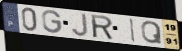0: (20, 7, 39, 33)
G: (41, 9, 63, 34)
I: (129, 17, 136, 43)
J: (71, 13, 89, 38)
Q: (140, 20, 164, 45)
R: (90, 14, 115, 41)
